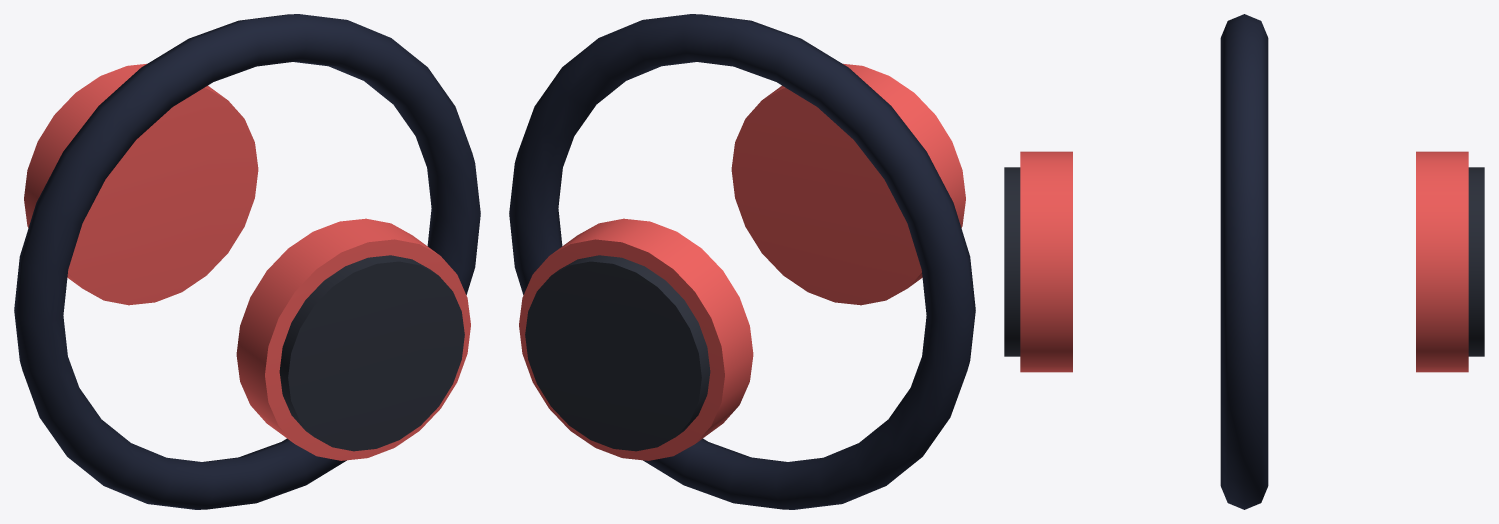
Rendered from prop_headphones_v2.glb.
The picture shows the model from 3 angles, left to right: view 1: azimuth 30°, elevation 25°; view 2: azimuth 150°, elevation 25°; view 3: azimuth 270°, elevation 25°; orthographic projection. The views are drawn at different scales.
Visible parts, largest first — view 1: HeadphonesV2; view 2: HeadphonesV2; view 3: HeadphonesV2.
Part boxes in pixels (x1,y1,x2,y2): HeadphonesV2: (14,14,480,509); HeadphonesV2: (509,14,975,509); HeadphonesV2: (1004,14,1484,509).
Size of the model in its own units: 1.88 by 1.88 by 1.82.
